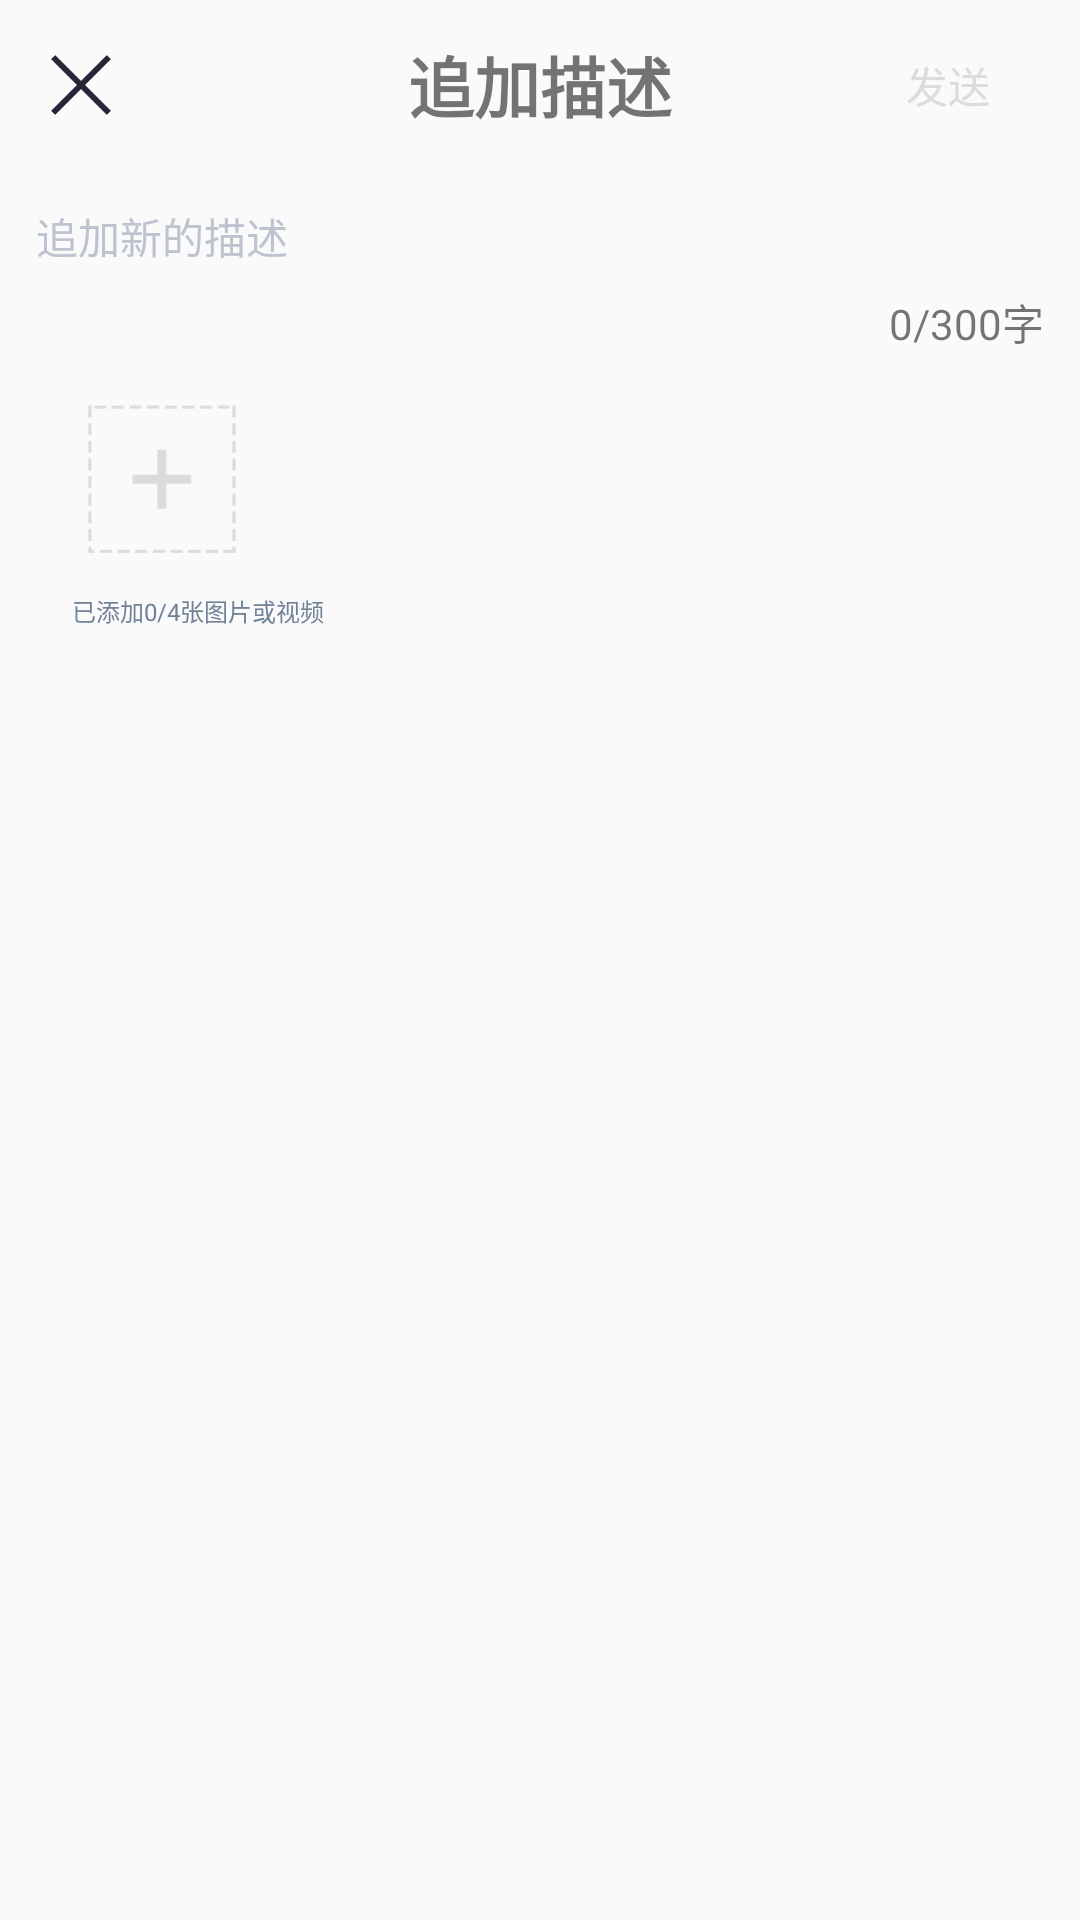

Icon click points for this 1080x1920 phone screenshot, format (x,y):
add: (162,479)
cancel: (81,85)
